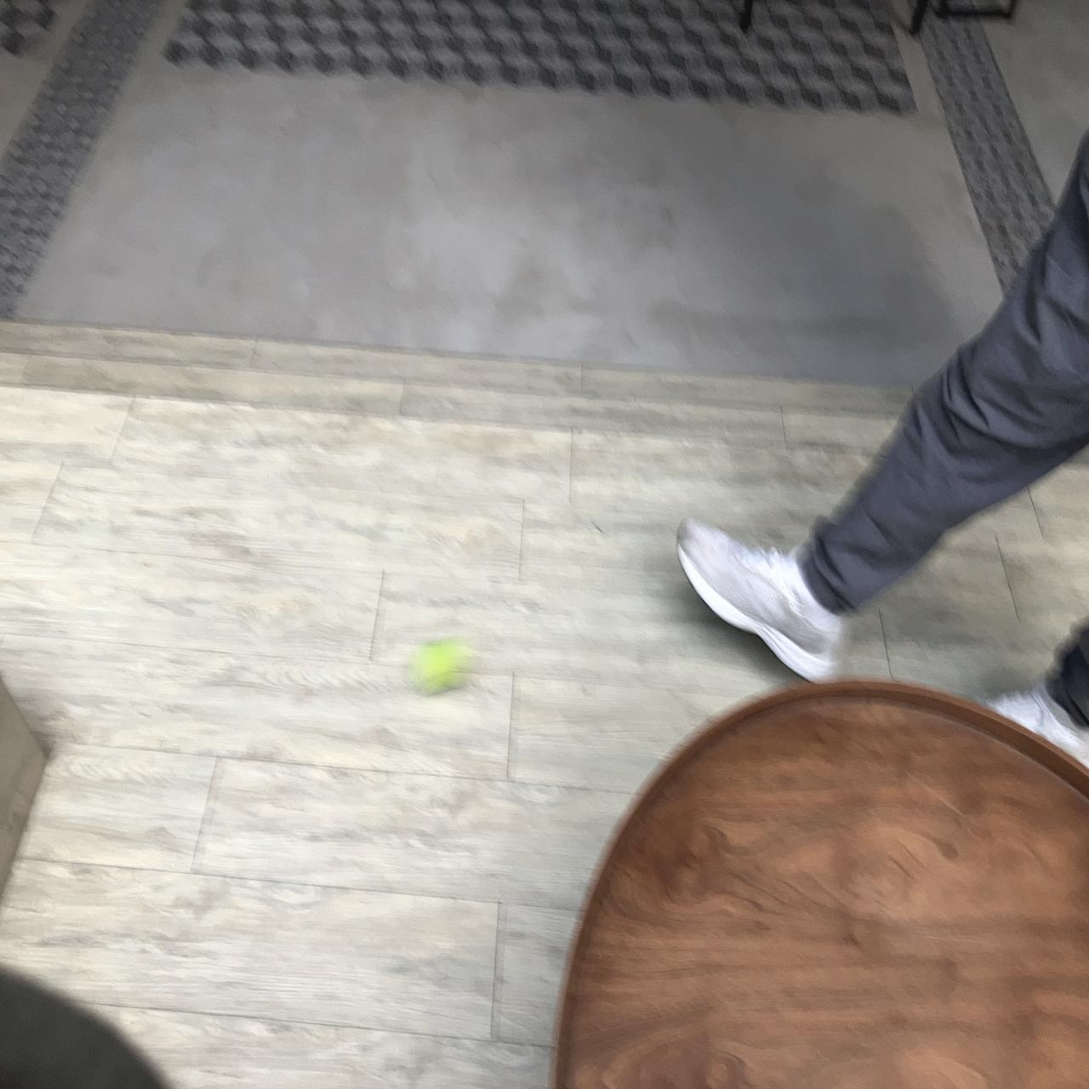tennisball: (296, 546, 338, 630)
